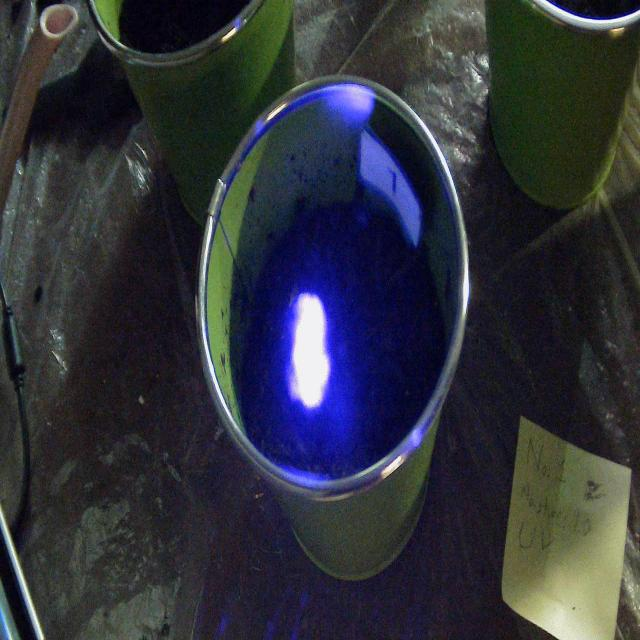soil-moisture-1.0: (288, 295, 331, 410)
